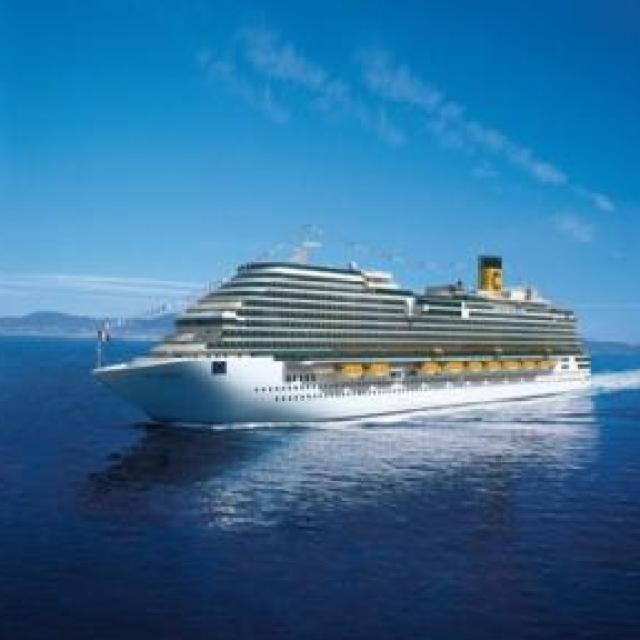passenger ship: (141, 220, 585, 424)
